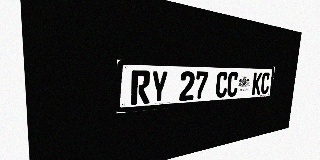2: (179, 71, 195, 101)
7: (194, 71, 209, 100)
C: (215, 72, 228, 98), (226, 72, 239, 97), (260, 72, 270, 94)
K: (252, 72, 262, 95)
R: (131, 70, 151, 105)
Y: (150, 71, 168, 103)
